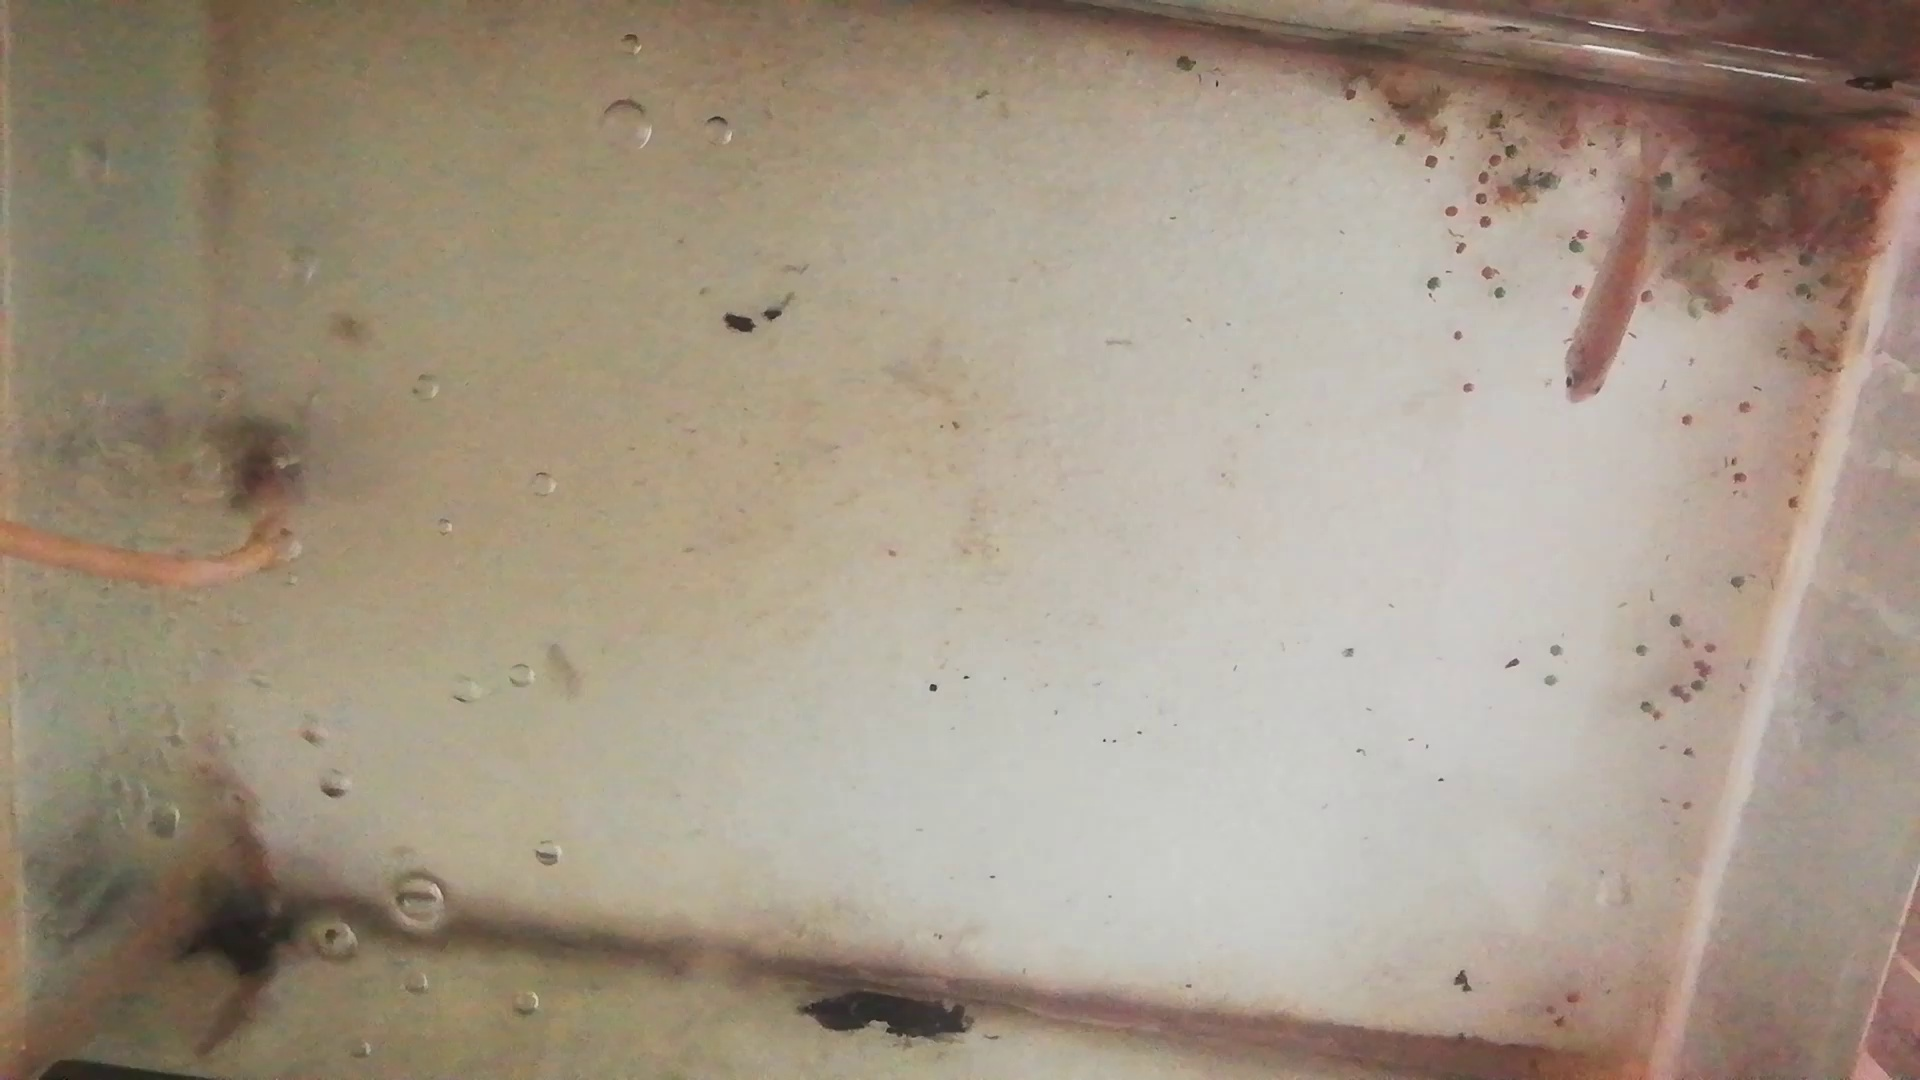fish: (1563, 178, 1652, 404), (196, 752, 284, 909)
